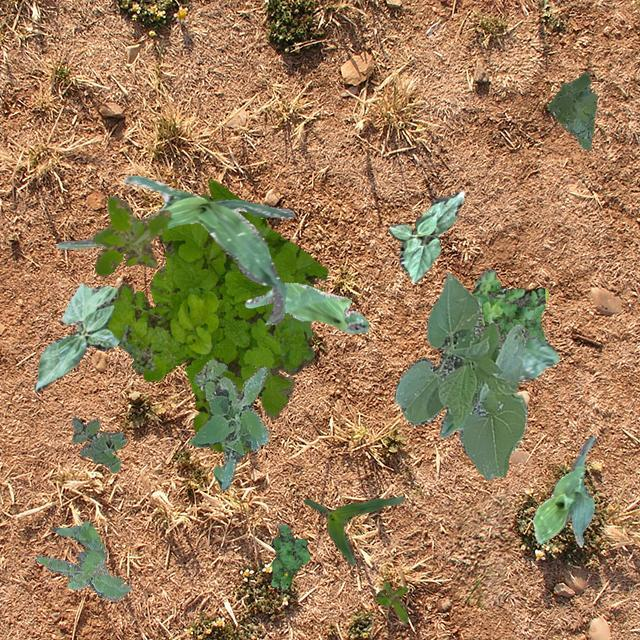crop: (54, 174, 294, 324), (394, 272, 526, 478), (34, 282, 118, 390), (532, 436, 596, 544), (388, 190, 463, 282), (304, 496, 404, 564), (245, 282, 368, 332), (500, 286, 558, 380)
weed: (104, 178, 328, 452), (188, 358, 268, 488), (34, 520, 130, 600), (90, 194, 172, 276), (471, 268, 546, 339), (546, 72, 596, 148), (70, 416, 126, 472), (270, 524, 308, 588), (115, 324, 154, 374), (374, 582, 406, 622)
